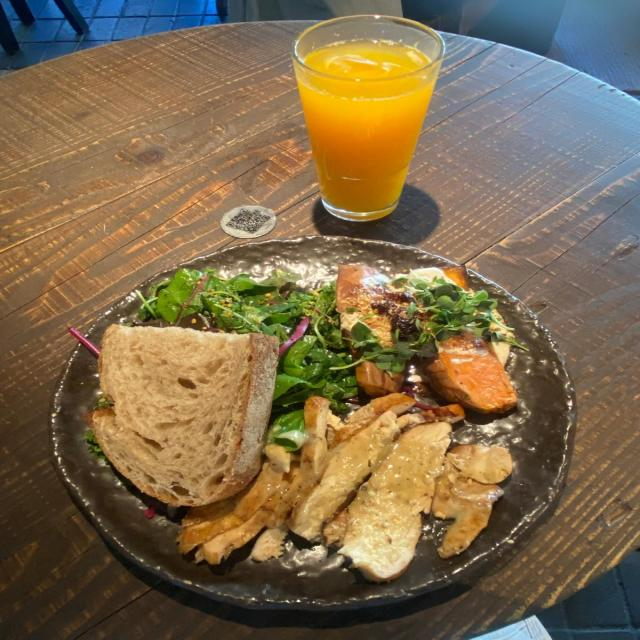bread: (91, 324, 278, 507)
cup: (292, 14, 444, 221)
plate: (52, 236, 574, 614)
steaks with mushrooms: (180, 310, 517, 580), (335, 265, 414, 350)
vegetables: (138, 270, 497, 451)
